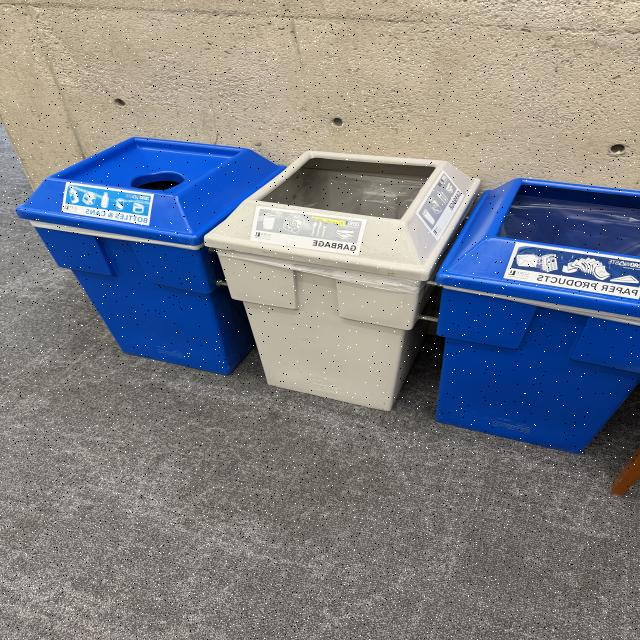Dustbin: (14, 134, 640, 453)
